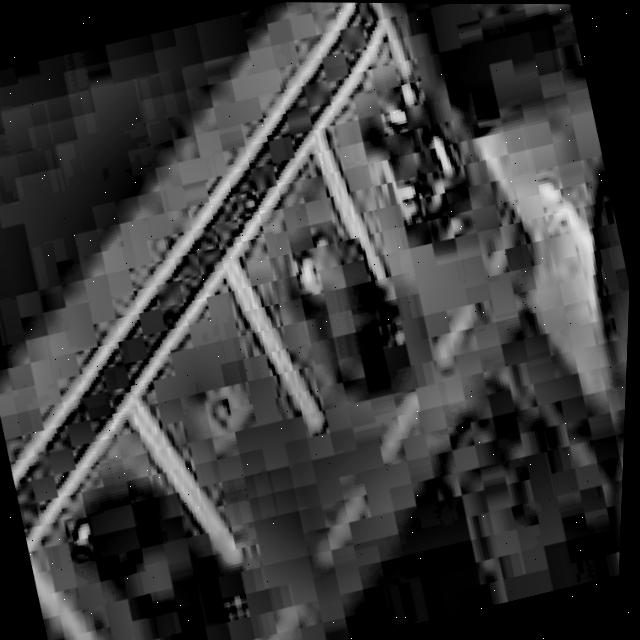car: (265, 203, 439, 425), (59, 450, 261, 640), (334, 52, 496, 263)
